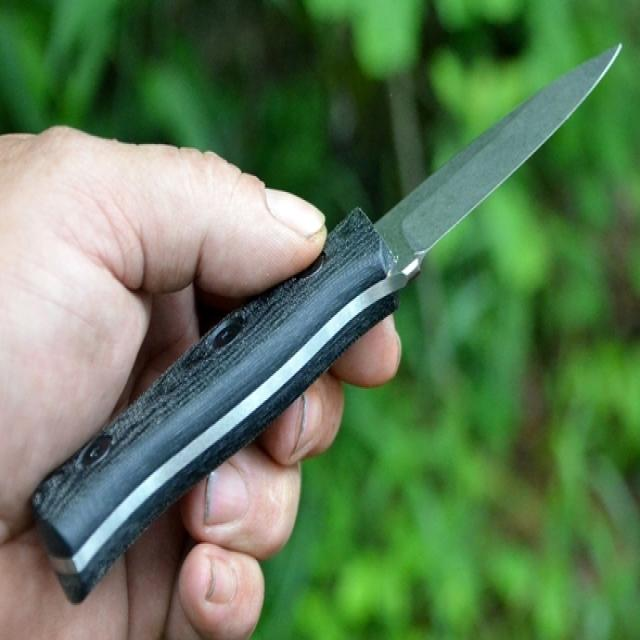knife: (29, 35, 624, 614)
